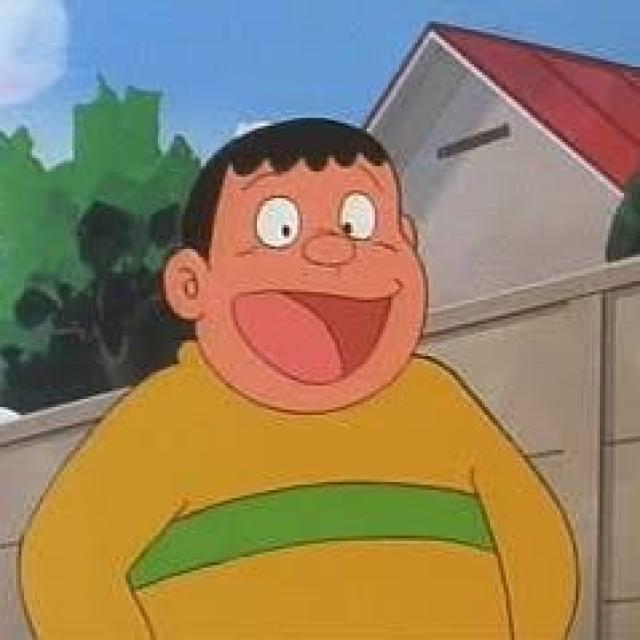jaian: (155, 104, 461, 442)
